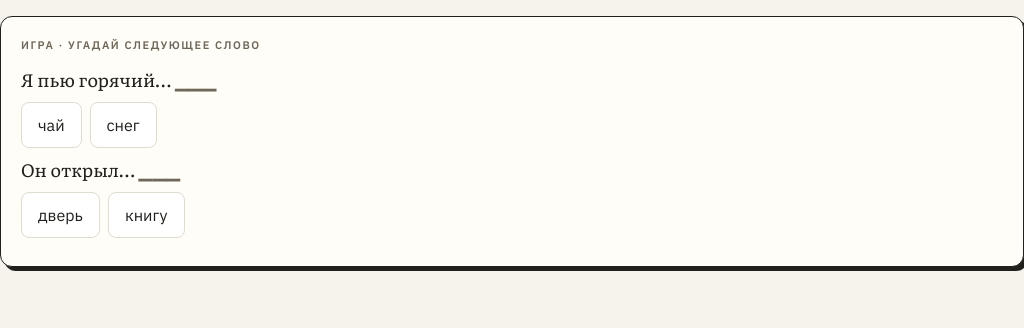
Test case: NextWordGame › comments every guess and passes after the last round
Click the button "снег".
click(123, 124)  # box [90, 102, 157, 148]
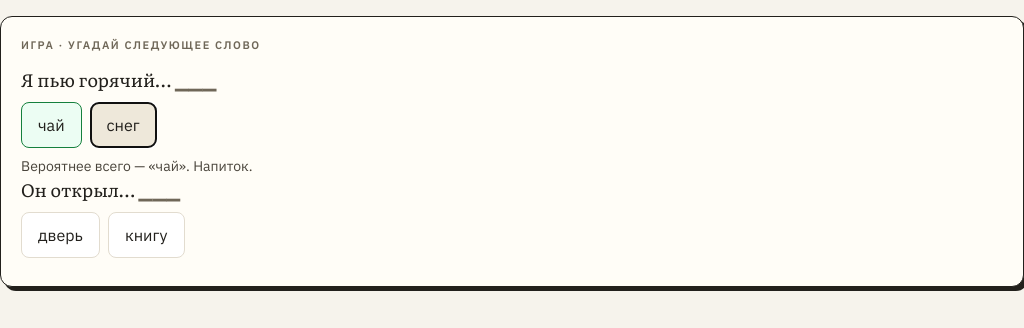
Expected: the text "Вероятнее всего — «чай». Напиток." is shown, [21, 156, 253, 174]
Click the button "книгу".
click(146, 234)  # box [108, 212, 185, 258]
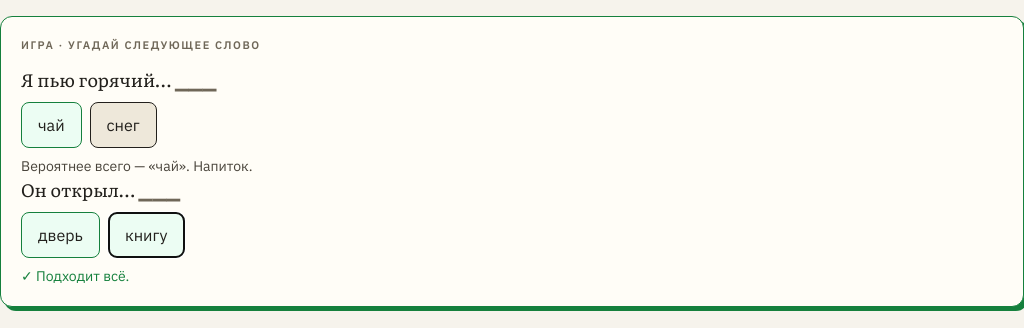
Expected: the text "✓ Подходит всё." is shown, [21, 266, 129, 284]
